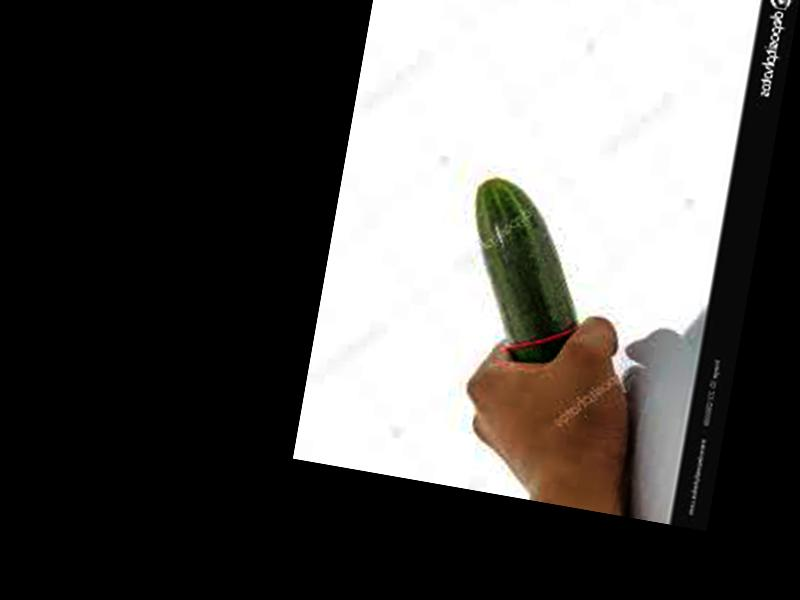Cucumber: (449, 175, 598, 370)
